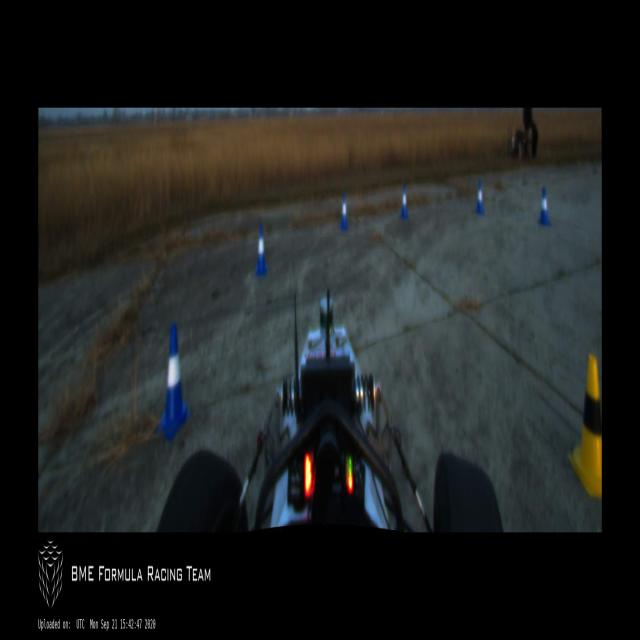blue_cone: (156, 319, 190, 441), (255, 226, 268, 276), (538, 188, 550, 228), (400, 184, 408, 219), (476, 180, 484, 214), (341, 194, 348, 231)
yellow_cone: (568, 358, 602, 497)
